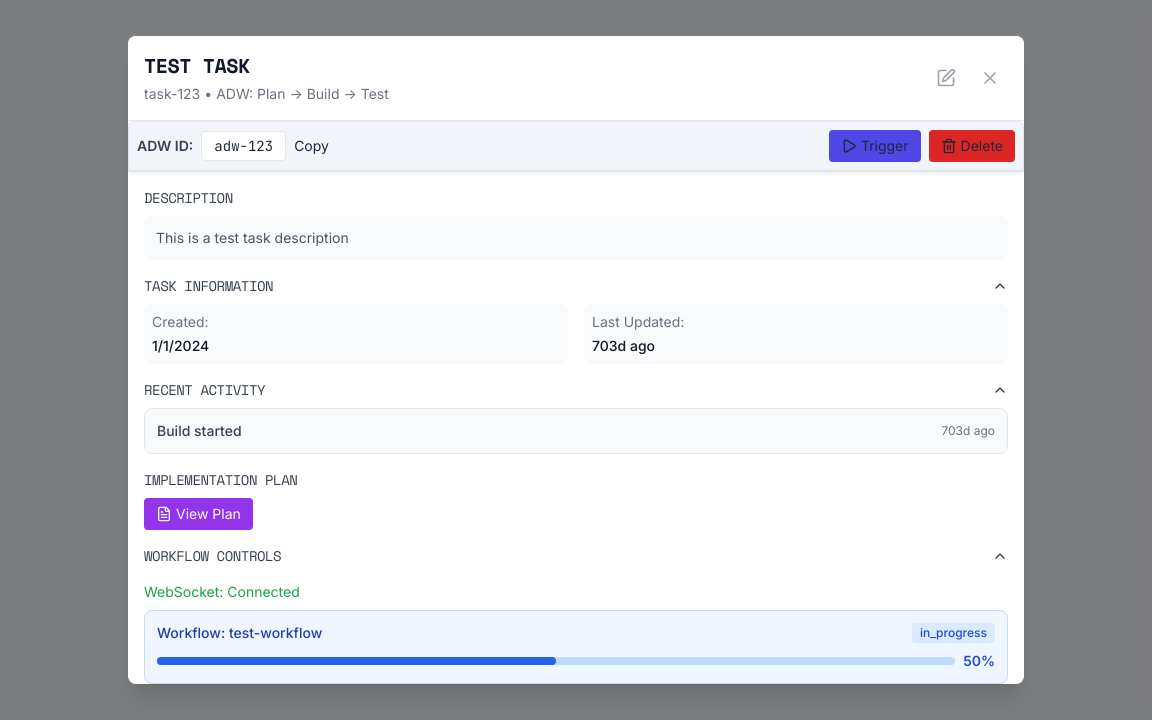
Scenario: TaskDetailsModal Component › Delete Worktree › should show confirmation dialog when delete is clicked
What coordinates should you click on to do the following:
click the button "Delete"
I would click on:
 (972, 146)
Its box is [929,130,1015,162].
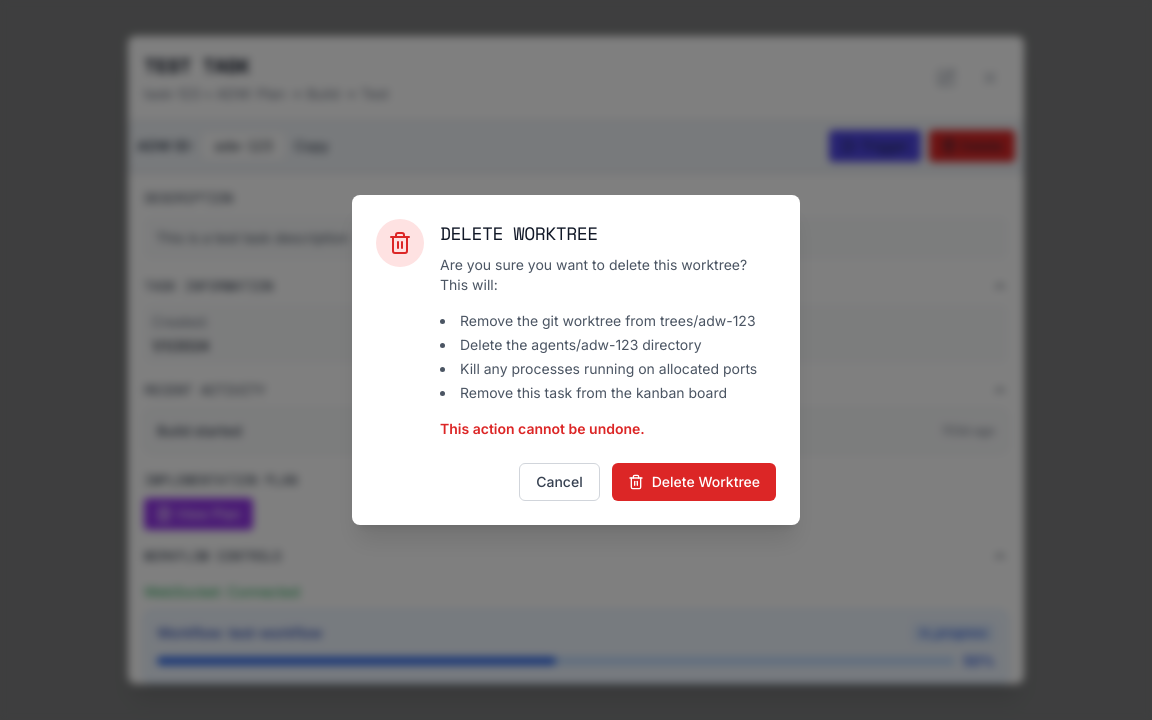
Expected: the heading "Delete Worktree" is shown, [440,220,598,246]
Expected: the text "Are you sure you want to delete this worktree? This will:" is shown, [440,255,776,295]
